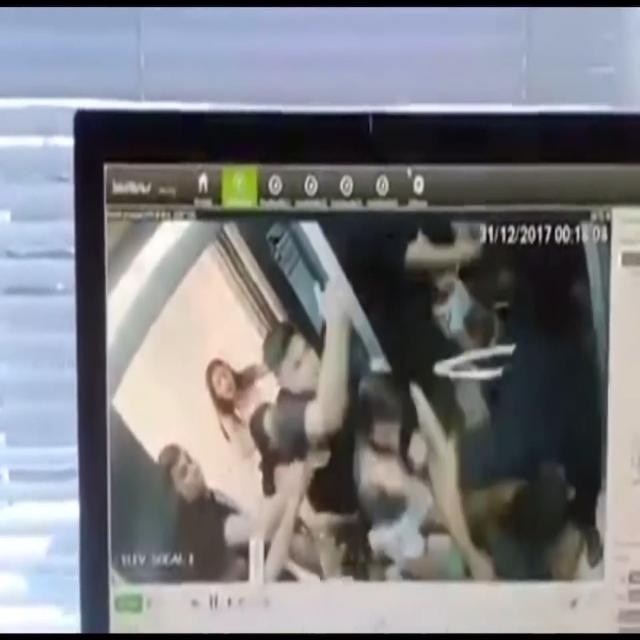fight: (250, 247, 533, 598)
